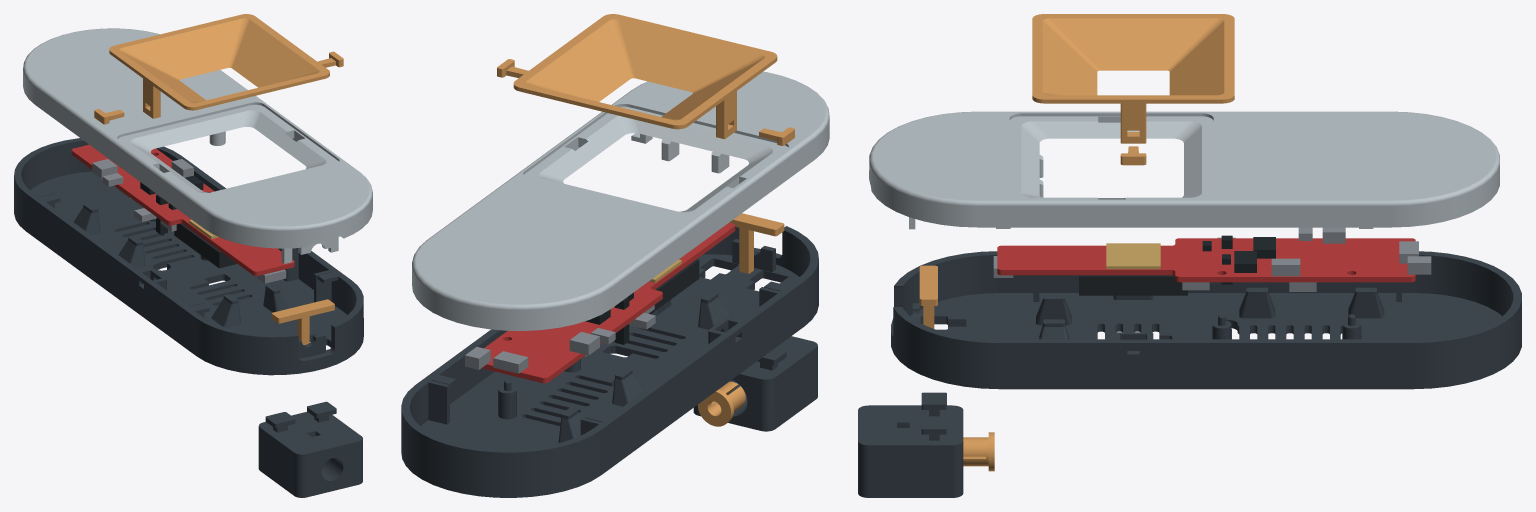
Rendered from assembly_order_exploded.glb.
3 renders of one model, left to right at view 1: azimuth 30°, elevation 25°; view 2: azimuth 150°, elevation 25°; view 3: azimuth 270°, elevation 25°, orthographic. The views are drawn at different scales.
Parts seen in each view (by area): view 1: v2_rear_flat_back, v2_sliding_open_front, v2_removable_flared_aperture_shroud, v2_detachable_stand_heel, reference_board_not_printable/pcb_PROC091G, v2_internal_heel_and_socket_keeper, reference_board_not_printable/ref_heatsink_envelope; view 2: v2_rear_flat_back, v2_sliding_open_front, v2_removable_flared_aperture_shroud, reference_board_not_printable/pcb_PROC091G, v2_detachable_stand_heel, v2_internal_heel_and_socket_keeper, v2_socket_4p50_nominal, reference_board_not_printable/ref_heatsink_envelope, reference_board_not_printable/ref_J5, reference_board_not_printable/ref_J7, reference_board_not_printable/ref_J10; view 3: v2_rear_flat_back, v2_sliding_open_front, v2_removable_flared_aperture_shroud, reference_board_not_printable/pcb_PROC091G, v2_detachable_stand_heel, reference_board_not_printable/ref_heatsink_envelope, reference_board_not_printable/ref_U2, v2_socket_4p50_nominal, v2_internal_heel_and_socket_keeper.
Part boxes in pixels (left/top/right/bottom): v2_rear_flat_back: left=14, top=138, right=363, bottom=375; v2_sliding_open_front: left=23, top=28, right=372, bottom=263; v2_removable_flared_aperture_shroud: left=109, top=14, right=329, bottom=118; v2_detachable_stand_heel: left=258, top=401, right=362, bottom=497; reference_board_not_printable/pcb_PROC091G: left=71, top=144, right=294, bottom=276; v2_internal_heel_and_socket_keeper: left=272, top=299, right=334, bottom=344; reference_board_not_printable/ref_heatsink_envelope: left=174, top=223, right=236, bottom=268; v2_rear_flat_back: left=401, top=226, right=818, bottom=497; v2_sliding_open_front: left=412, top=71, right=829, bottom=330; v2_removable_flared_aperture_shroud: left=513, top=14, right=777, bottom=139; reference_board_not_printable/pcb_PROC091G: left=482, top=222, right=735, bottom=383; v2_detachable_stand_heel: left=693, top=336, right=817, bottom=431; v2_internal_heel_and_socket_keeper: left=729, top=213, right=784, bottom=273; v2_socket_4p50_nominal: left=697, top=381, right=745, bottom=426; reference_board_not_printable/ref_heatsink_envelope: left=648, top=259, right=699, bottom=314; reference_board_not_printable/ref_J5: left=493, top=351, right=528, bottom=373; reference_board_not_printable/ref_J7: left=569, top=331, right=599, bottom=355; reference_board_not_printable/ref_J10: left=465, top=347, right=490, bottom=369; v2_rear_flat_back: left=891, top=251, right=1521, bottom=389; v2_sliding_open_front: left=869, top=111, right=1499, bottom=229; v2_removable_flared_aperture_shroud: left=1032, top=14, right=1234, bottom=143; reference_board_not_printable/pcb_PROC091G: left=997, top=238, right=1415, bottom=282; v2_detachable_stand_heel: left=858, top=392, right=963, bottom=497; reference_board_not_printable/ref_heatsink_envelope: left=1079, top=275, right=1187, bottom=295; reference_board_not_printable/ref_U2: left=1106, top=243, right=1160, bottom=269; v2_socket_4p50_nominal: left=963, top=432, right=994, bottom=471; v2_internal_heel_and_socket_keeper: left=919, top=265, right=937, bottom=328.
Bounding box in the file's own units: 0.0928 × 0.1281 × 0.1829.
